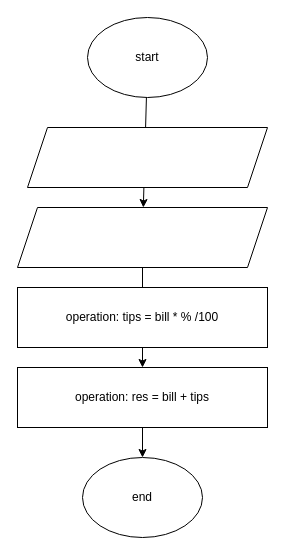
The diagram is 285 pixels wide and 555 high, and some of its shapes have lost their labels. The shapes that lost their labels are listed below. From the top down, each one's centre as x and y in pixels, then its label:
point 147,157: input: Sum tips
point 142,237: input: % tips
